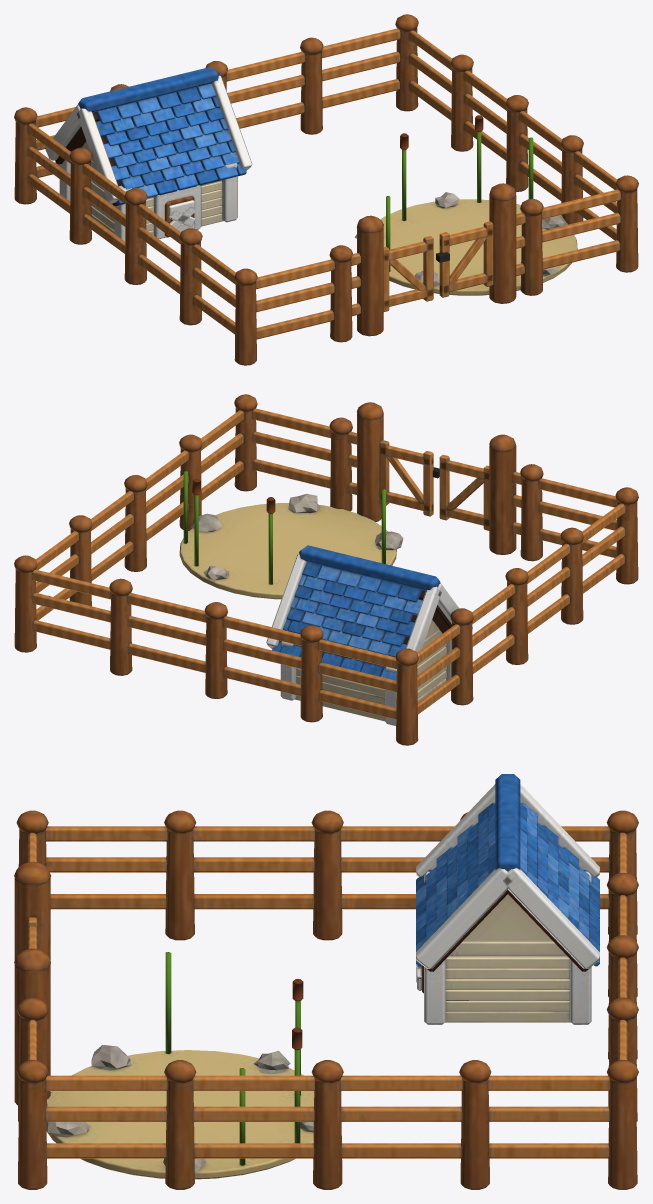
The model's file is emden_pen.glb.
3 views of the same model, one above another, from view 1: azimuth 30°, elevation 25°; view 2: azimuth 150°, elevation 25°; view 3: azimuth 270°, elevation 25° (orthographic). The views are drawn at different scales.
Visible parts, largest first — view 1: emden_pen, gate1, gate0; view 2: emden_pen, gate1, gate0; view 3: emden_pen.
Boxes of the visible parts, x1,y1,x2,y2 form: emden_pen: (14,14,638,365); gate1: (436,221,493,297); gate0: (383,236,433,311); emden_pen: (14,394,638,745); gate1: (379,440,439,516); gate0: (439,455,489,530); emden_pen: (14,774,638,1189).
Bounding box in the file's own units: 2 × 0.615 × 2.01.
1 material, 1 textured.
